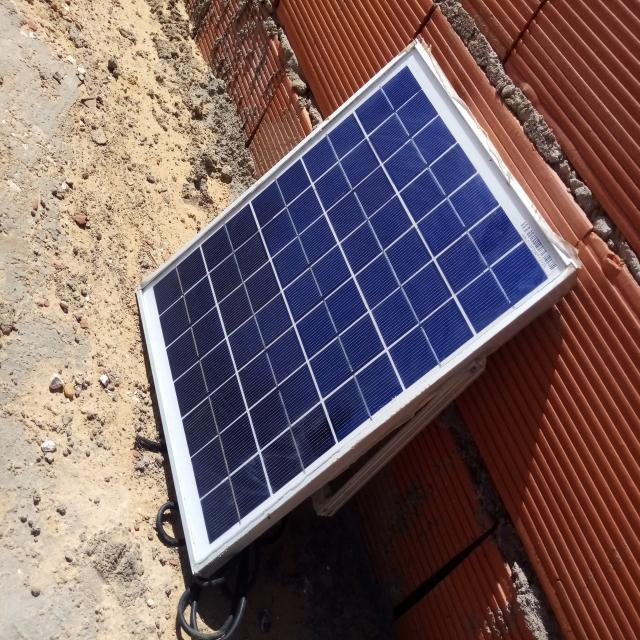no faulty: (138, 41, 575, 571)
